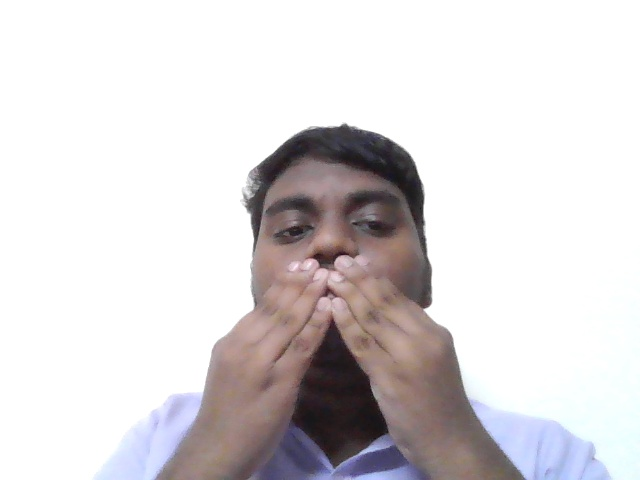Thank you: (176, 249, 497, 453)
